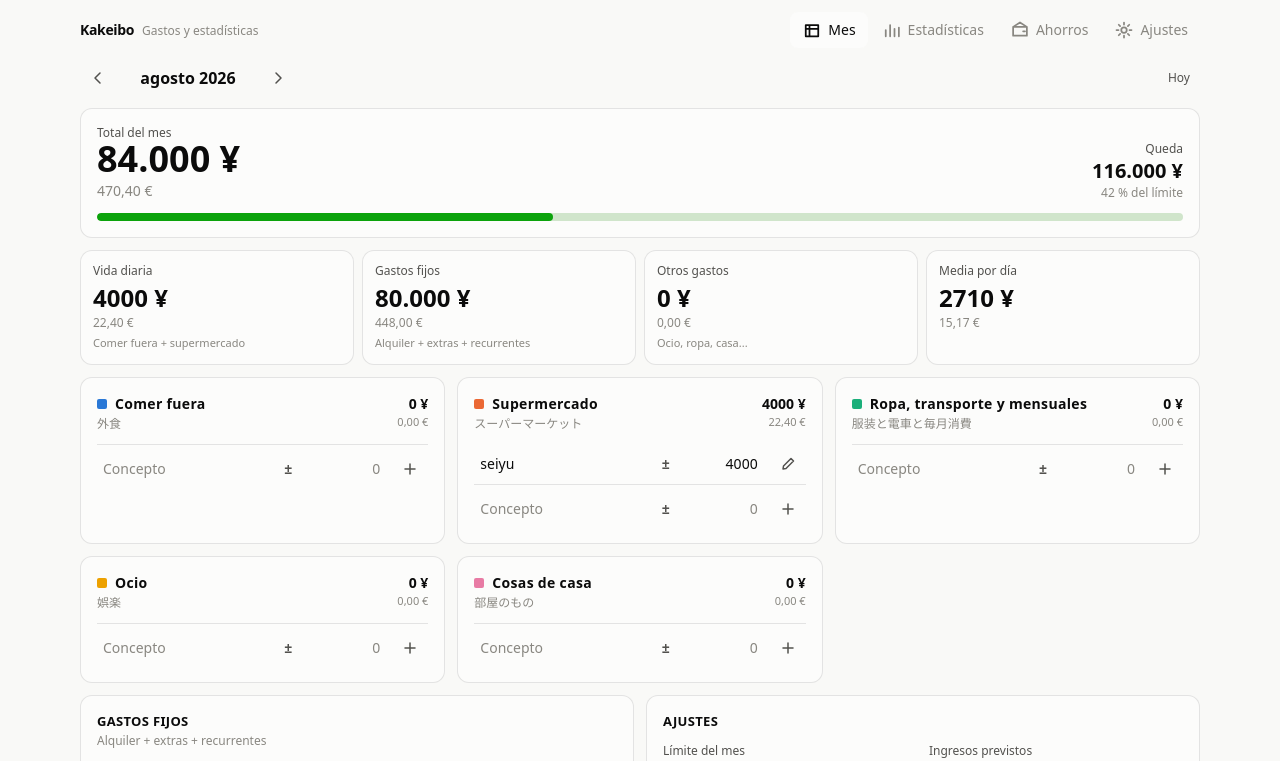
Scenario: la aplicacion › el boton +/- de un gasto ya creado guarda el signo nuevo al momento, sin esperar a perder el foco
Note: sin tocar el campo antes (ni pulsar Tab despues): el boton solo
Click the button named "Cambiar a positivo/negativo": (666, 464) [648,446,684,482]
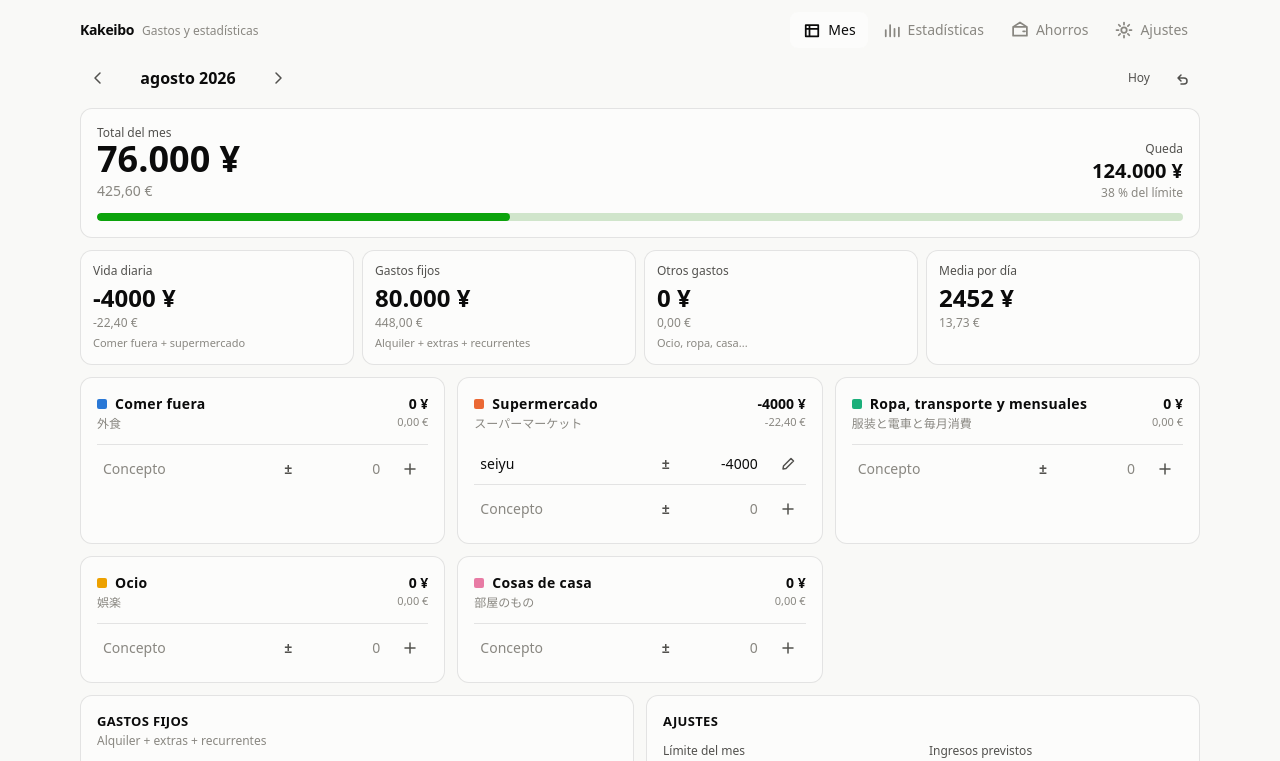
expect the field showing "4000" holds "-4000": met, box [690,448,764,480]
expect the text "76.000 ¥" is shown: met, box [97,141,240,177]
